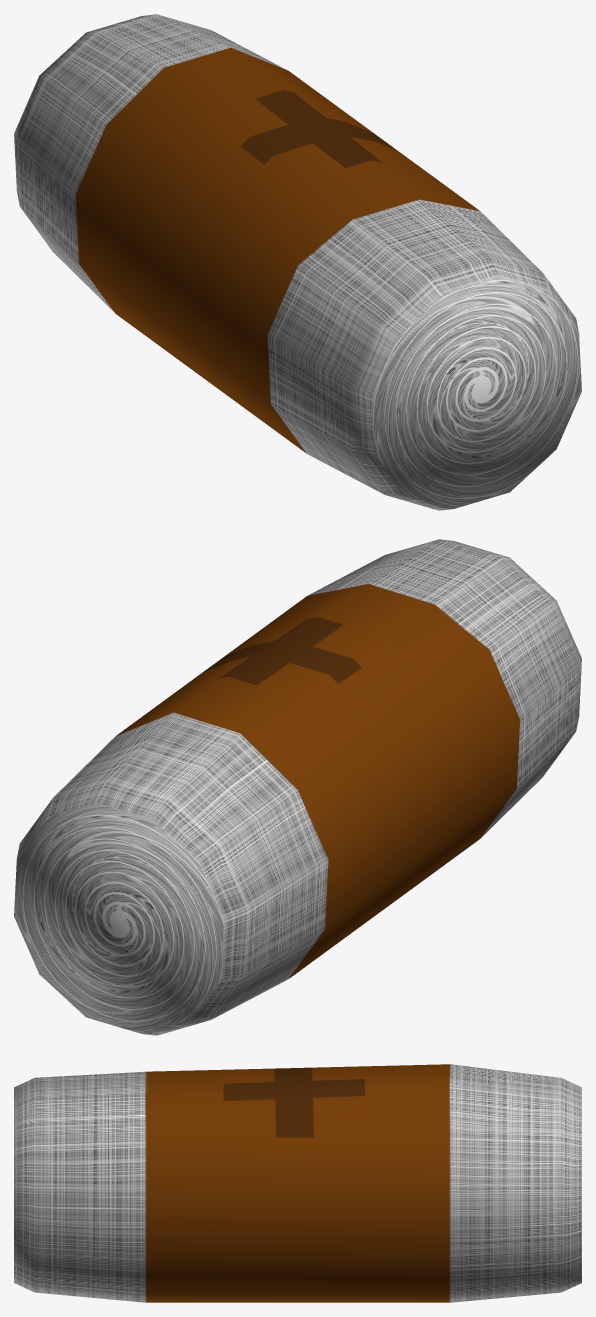
Rendered from Bandage.fbx.
3 renders of one model, top to bottom at view 1: azimuth 30°, elevation 25°; view 2: azimuth 150°, elevation 25°; view 3: azimuth 270°, elevation 25°, orthographic. The views are drawn at different scales.
Parts seen in each view (by area): view 1: Bandage; view 2: Bandage; view 3: Bandage.
Boxes of the visible parts, x1=… form: Bandage: x1=14, y1=14, x2=581, y2=510; Bandage: x1=14, y1=539, x2=581, y2=1035; Bandage: x1=14, y1=1064, x2=581, y2=1302.
Size of the model in its own units: 6.16 by 6.29 by 15.11.
